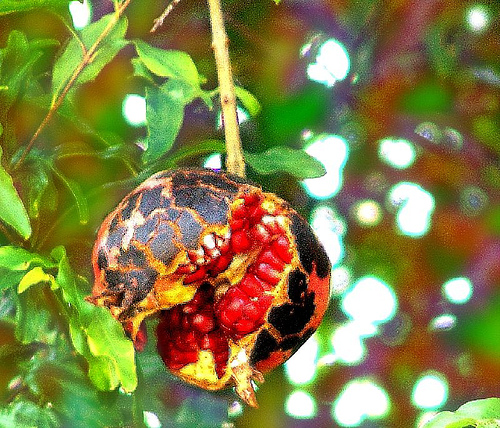pomogranate: (81, 163, 332, 407)
